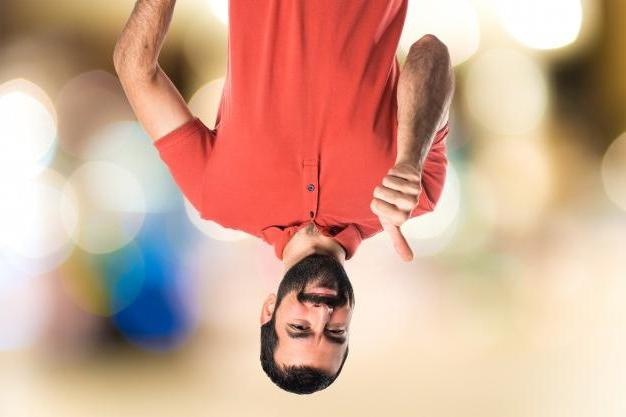thumbsdown: (370, 168, 422, 262)
